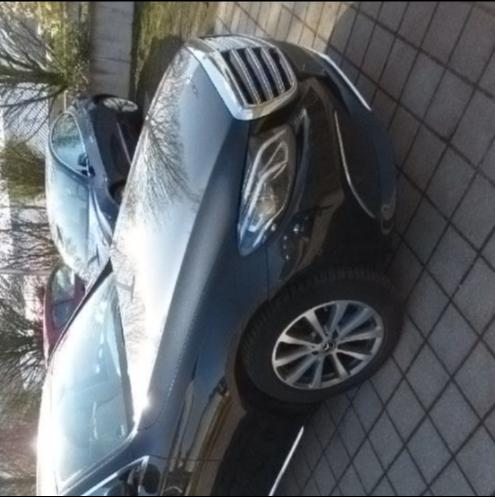Broken part: (351, 106, 398, 230), (264, 240, 272, 300)
Missing part: (268, 37, 324, 72)
